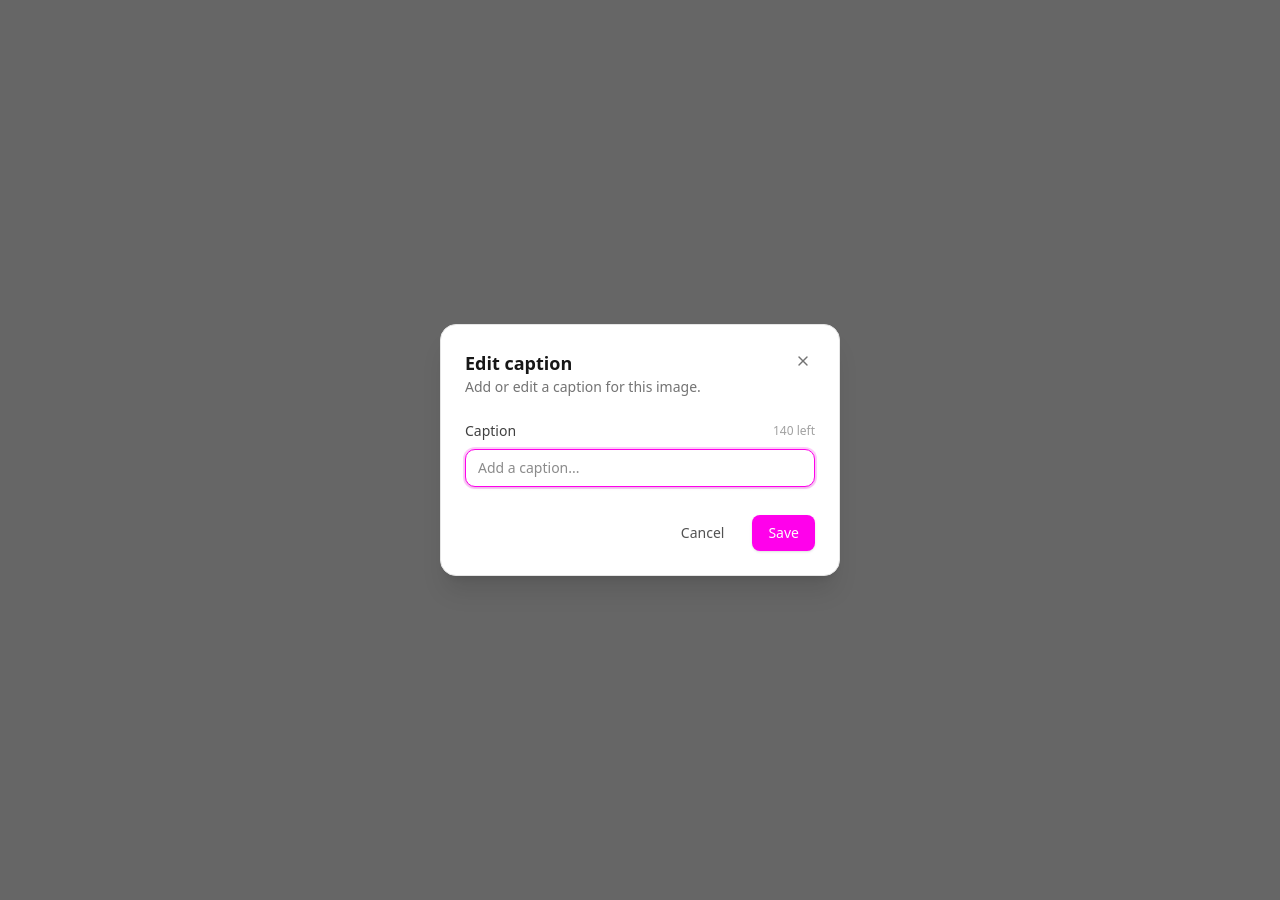
EditCaptionDialog › updates character counter as user types
The image size is (1280, 900).
Type "Hello" into the field labelled "Caption".
click(640, 468); type("Hello")  # box top-left (465, 449), bottom-right (815, 487)
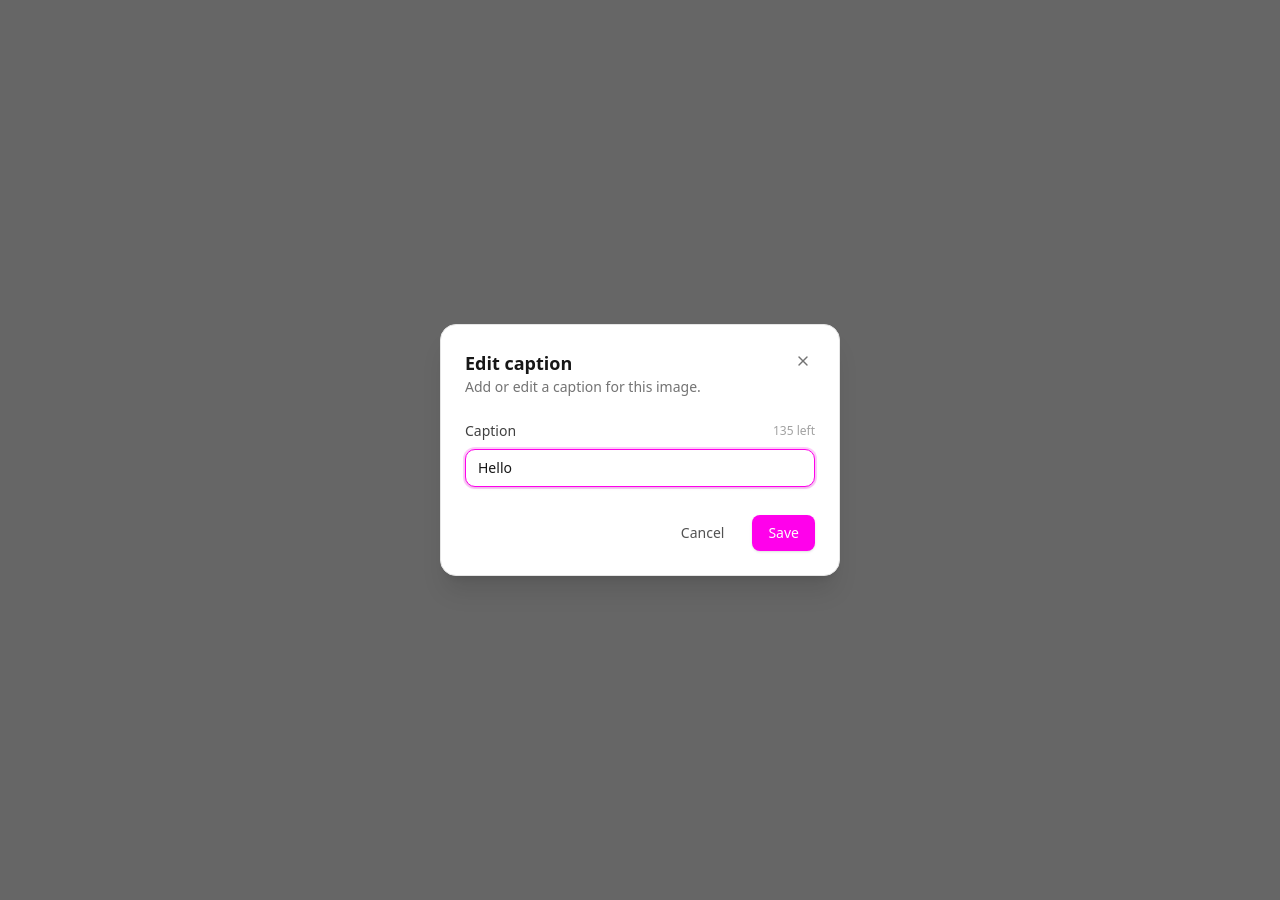
Now the text "135 left" is shown, box top-left (773, 423), bottom-right (815, 439)
